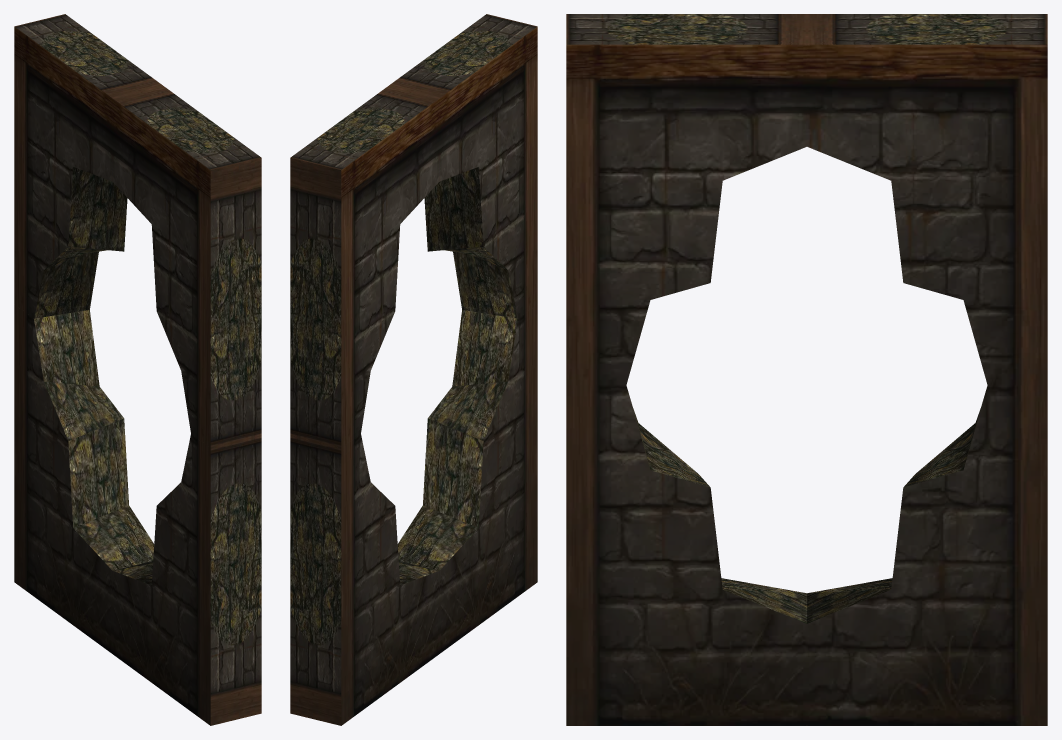
The model's file is blk_cracked_wall.glb.
3 views of the same model, side by side, from view 1: azimuth 30°, elevation 25°; view 2: azimuth 150°, elevation 25°; view 3: azimuth 270°, elevation 25° (orthographic). The views are drawn at different scales.
Parts seen in each view (by area): view 1: object1.003, object1.004, object1.001, object1.002; view 2: object1.002, object1.001, object1.004, object1.003; view 3: object1.002, object1.003, object1.001, object1.004.
Part boxes in pixels (box(x1,y1,x2,y2)): object1.003: box(112, 86, 261, 447); object1.004: box(14, 304, 154, 653); object1.001: box(112, 434, 261, 725); object1.002: box(14, 14, 162, 318); object1.002: box(290, 86, 439, 447); object1.001: box(397, 304, 537, 653); object1.004: box(290, 434, 439, 725); object1.003: box(389, 14, 537, 318); object1.002: box(807, 14, 1047, 385); object1.003: box(566, 14, 806, 385); object1.001: box(566, 385, 806, 725); object1.004: box(807, 385, 1047, 725).
Size of the model in its own units: 0.3 by 3.12 by 2.
1 material, 1 textured.
